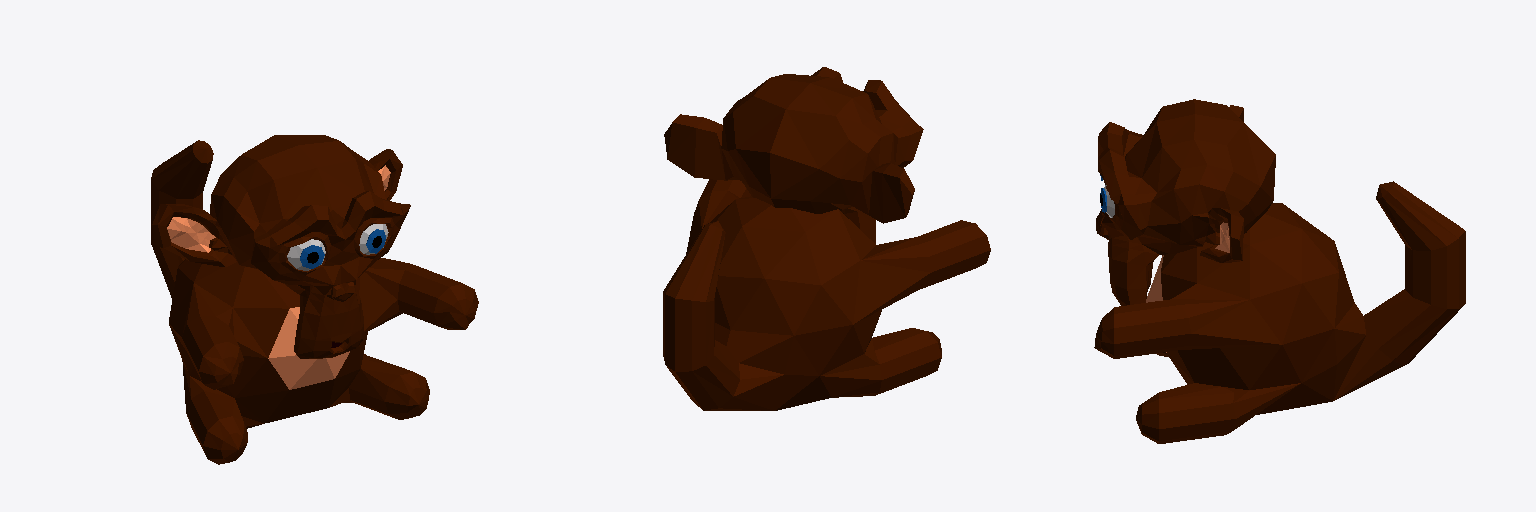
File: Monkey.obj
3 views of the same model, side by side, from view 1: azimuth 30°, elevation 25°; view 2: azimuth 150°, elevation 25°; view 3: azimuth 270°, elevation 25° (orthographic).
Visible parts, largest first — view 1: Monkey; view 2: Monkey; view 3: Monkey.
Boxes of the visible parts, x1=… form: Monkey: x1=151, y1=135, x2=478, y2=464; Monkey: x1=663, y1=67, x2=990, y2=410; Monkey: x1=1094, y1=99, x2=1465, y2=443.
Bounding box in the file's own units: 3.09 × 2.98 × 3.54.